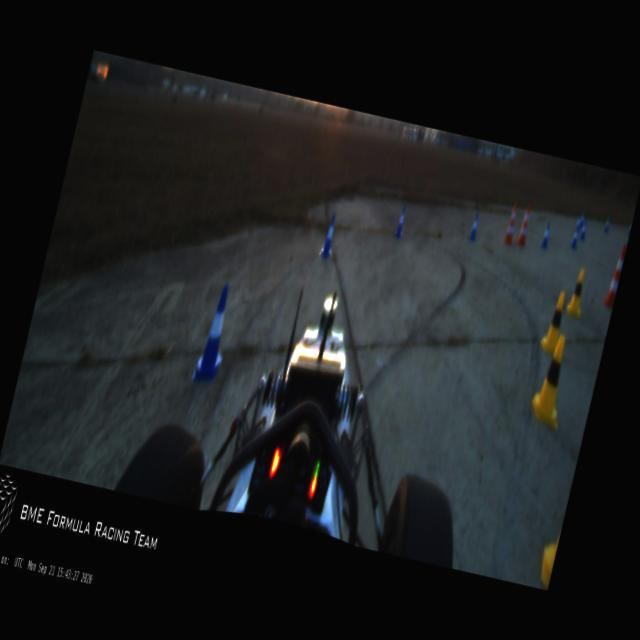blue_cone: (191, 280, 238, 384), (319, 212, 340, 258), (394, 205, 408, 238), (468, 212, 482, 242), (540, 222, 553, 248), (570, 226, 580, 248), (578, 219, 588, 240), (574, 215, 582, 231)
large_orange_cone: (601, 243, 626, 308), (515, 203, 534, 246), (502, 202, 520, 244)
yellow_cone: (526, 331, 578, 428), (538, 290, 568, 354), (565, 267, 591, 318)
